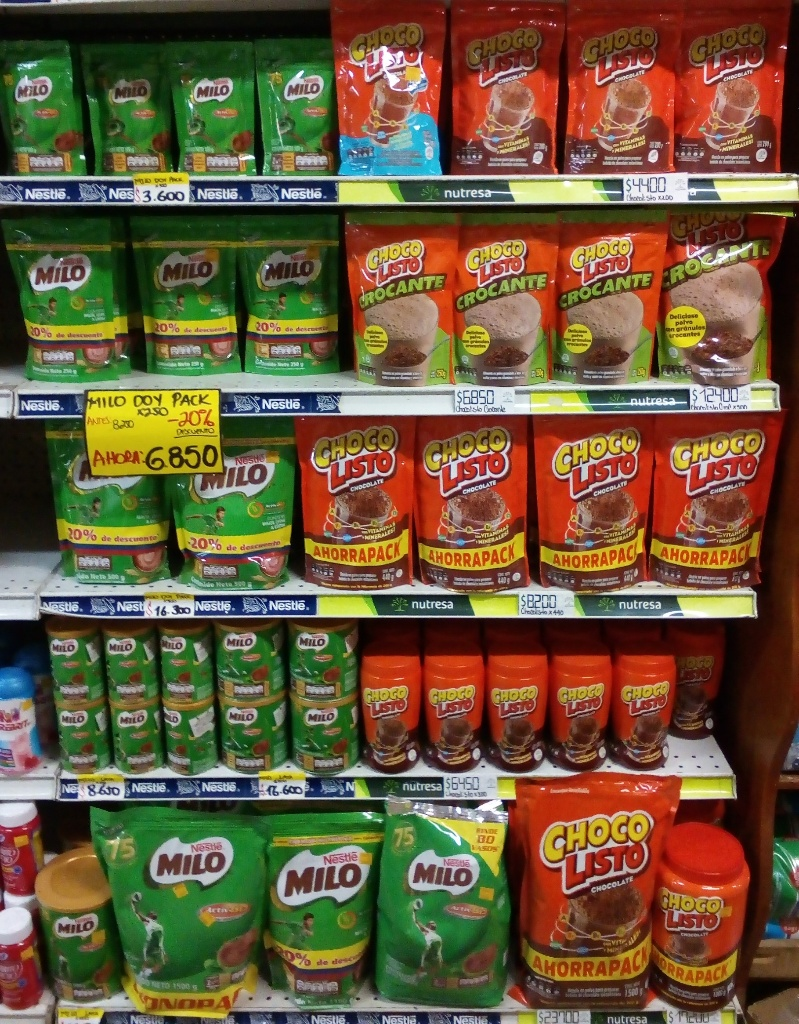COL0170102DYP50000: (668, 210, 791, 382)
COL0170103DYP1,500: (517, 774, 684, 1012)
COL0170103DYP44000: (656, 411, 772, 592)
COL0170103TRR00100: (644, 819, 748, 1016)
COL0170103TRR30000: (669, 631, 724, 735)
COL0170104DYP20000: (333, 7, 443, 172)
COL0170203DYP10000: (267, 40, 343, 176)
COL0170203DYP50000: (169, 420, 301, 590)
COL0170203LAT20000: (160, 696, 222, 776)
COL0170203LAT40000: (292, 693, 361, 773)
